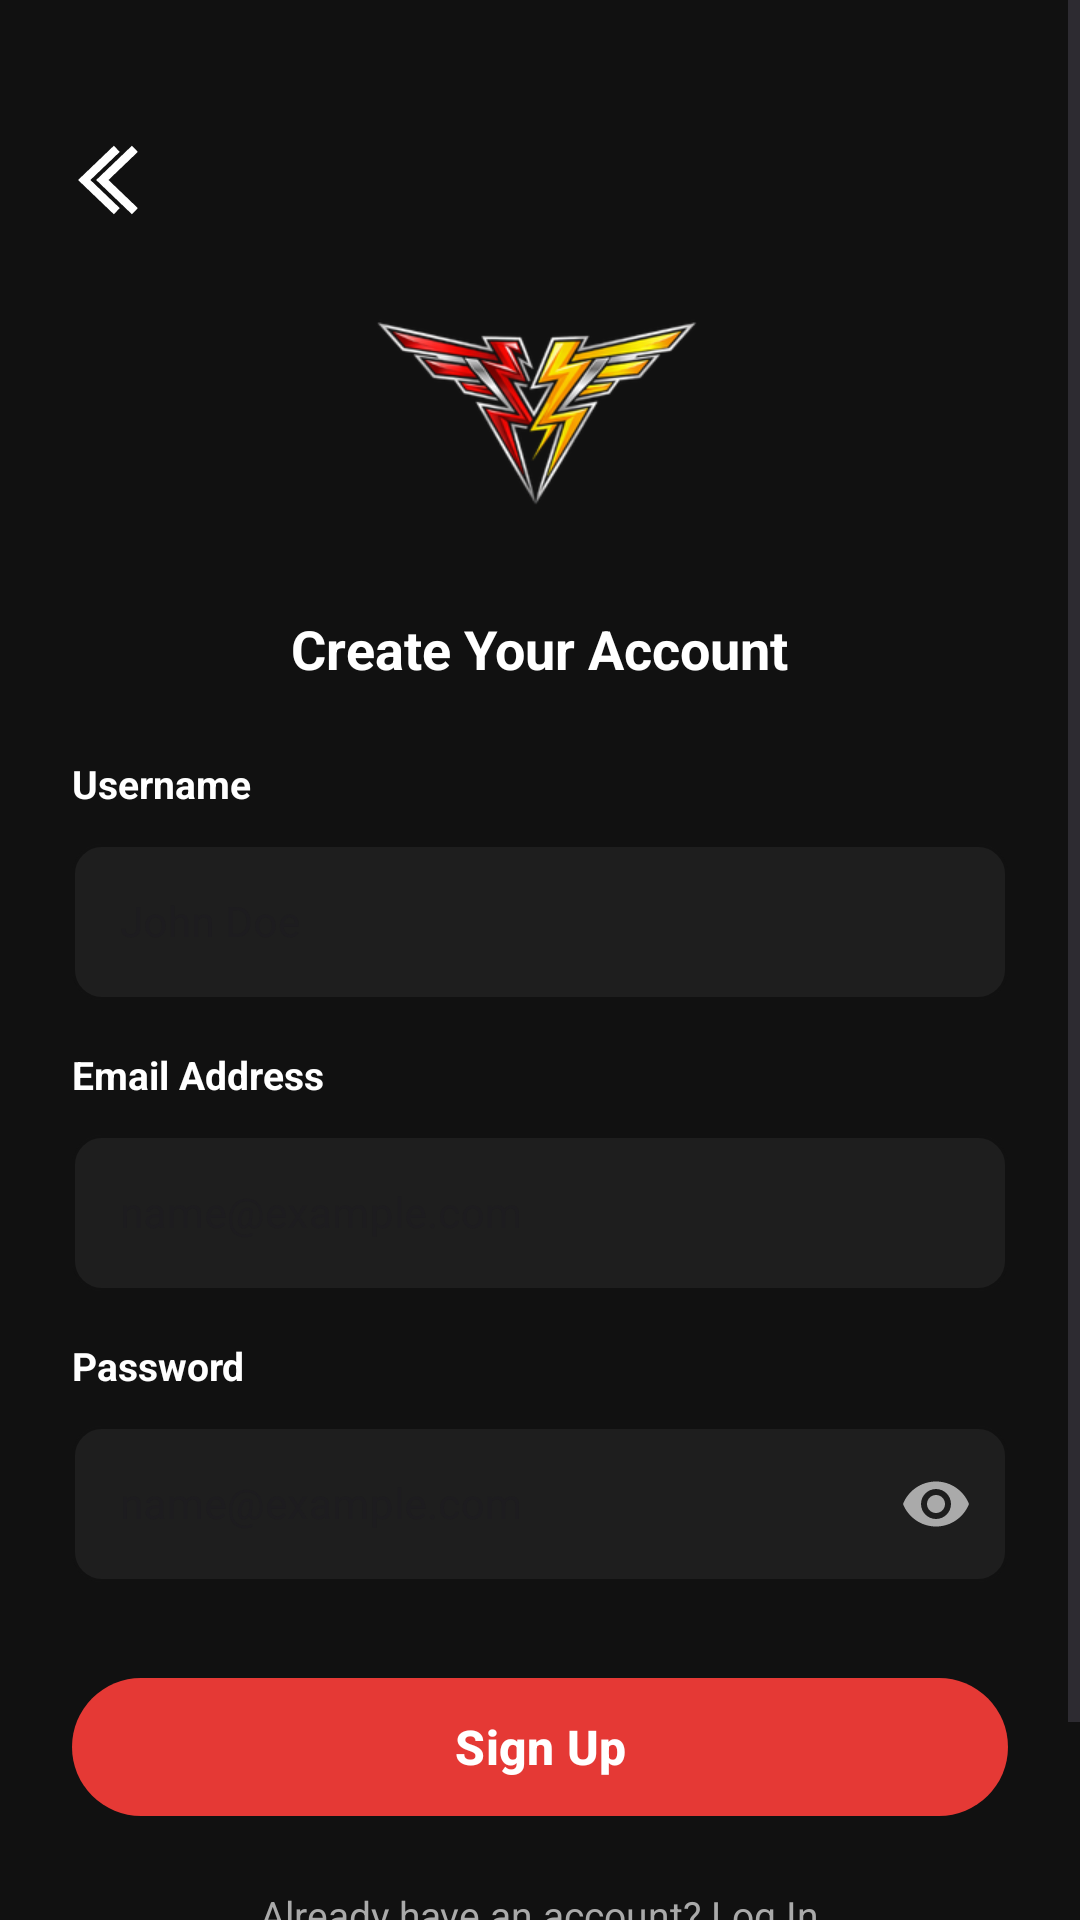

Icons on this 1080px x 1920px Android screen, each with the point to tap as (x=x, y=y):
Back: (x=108, y=180)
